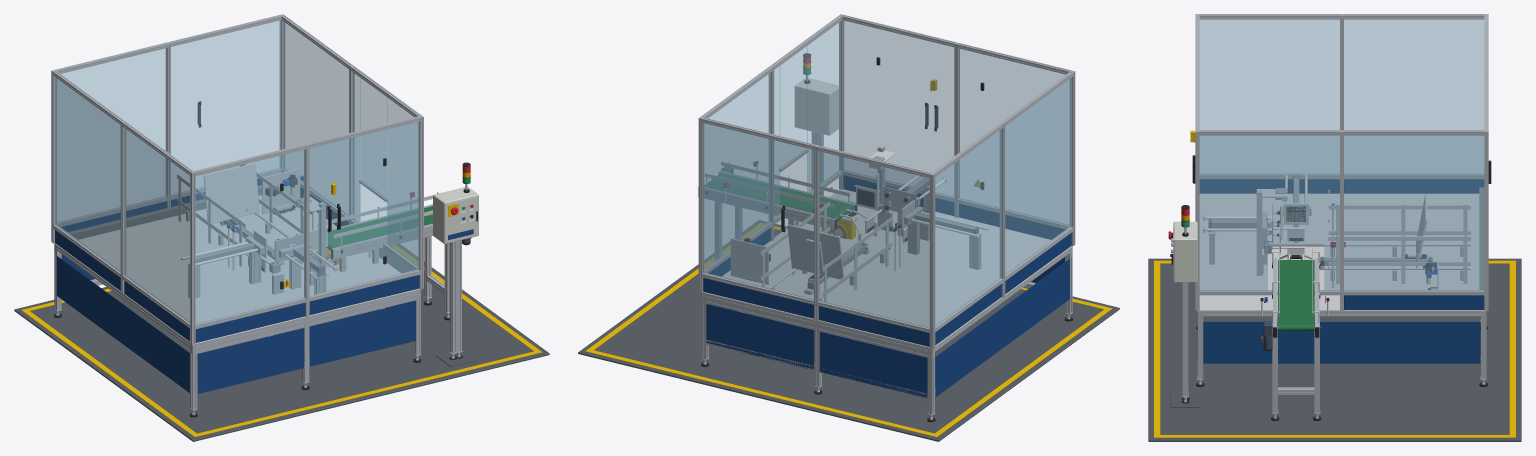
The model's file is erector.glb.
The picture shows the model from 3 angles, left to right: view 1: azimuth 30°, elevation 25°; view 2: azimuth 150°, elevation 25°; view 3: azimuth 270°, elevation 25°; orthographic projection. The views are drawn at different scales.
Visible parts, largest first — view 1: glass_guard, static_alu, static_base, static_accent, static_inox, static_warn, magazine_pusher, static_cabinet, belt_out, static_duct, static_cylbody, static_black (+2 smaller); view 2: glass_guard, static_alu, static_base, static_accent, static_inox, static_warn, static_cabinet, magazine_pusher, belt_out, static_cylbody, static_black, cyl_1A_rod (+2 smaller); view 3: glass_guard, static_base, static_inox, static_alu, static_accent, static_warn, belt_out, static_cabinet, static_cylbody, static_black, cyl_5A_rod, cyl_1A_rod (+2 smaller).
Part boxes in pixels (bbox=[...]): glass_guard: bbox=[55, 20, 419, 324]; static_alu: bbox=[51, 14, 462, 410]; static_base: bbox=[14, 244, 549, 441]; static_accent: bbox=[55, 178, 473, 393]; static_inox: bbox=[54, 159, 438, 345]; static_warn: bbox=[21, 182, 542, 436]; magazine_pusher: bbox=[203, 163, 259, 228]; static_cabinet: bbox=[326, 187, 478, 267]; belt_out: bbox=[326, 206, 432, 250]; static_duct: bbox=[68, 185, 262, 239]; static_cylbody: bbox=[195, 197, 322, 273]; static_black: bbox=[54, 101, 477, 417]; glass_guard: bbox=[703, 20, 1071, 328]; static_alu: bbox=[698, 14, 1075, 415]; static_base: bbox=[578, 220, 1119, 441]; static_accent: bbox=[703, 175, 1071, 397]; static_inox: bbox=[700, 150, 1072, 348]; static_warn: bbox=[585, 79, 1112, 436]; static_cabinet: bbox=[794, 78, 842, 237]; magazine_pusher: bbox=[787, 224, 843, 281]; belt_out: bbox=[704, 173, 853, 220]; static_cylbody: bbox=[819, 156, 975, 283]; static_black: bbox=[698, 53, 1072, 422]; cyl_1A_rod: bbox=[883, 175, 946, 212]; glass_guard: bbox=[1199, 19, 1484, 290]; static_base: bbox=[1148, 258, 1521, 441]; static_inox: bbox=[1197, 189, 1486, 332]; static_alu: bbox=[1182, 14, 1488, 413]; static_accent: bbox=[1173, 179, 1484, 363]; static_warn: bbox=[1154, 130, 1515, 437]; belt_out: bbox=[1278, 260, 1314, 331]; static_cabinet: bbox=[1173, 221, 1197, 282]; static_cylbody: bbox=[1212, 177, 1428, 265]; static_black: bbox=[1170, 155, 1491, 420]; cyl_5A_rod: bbox=[1283, 175, 1308, 224]; cyl_1A_rod: bbox=[1203, 204, 1279, 242].
Size of the model in its own units: 3.05 by 2.02 by 2.65.
